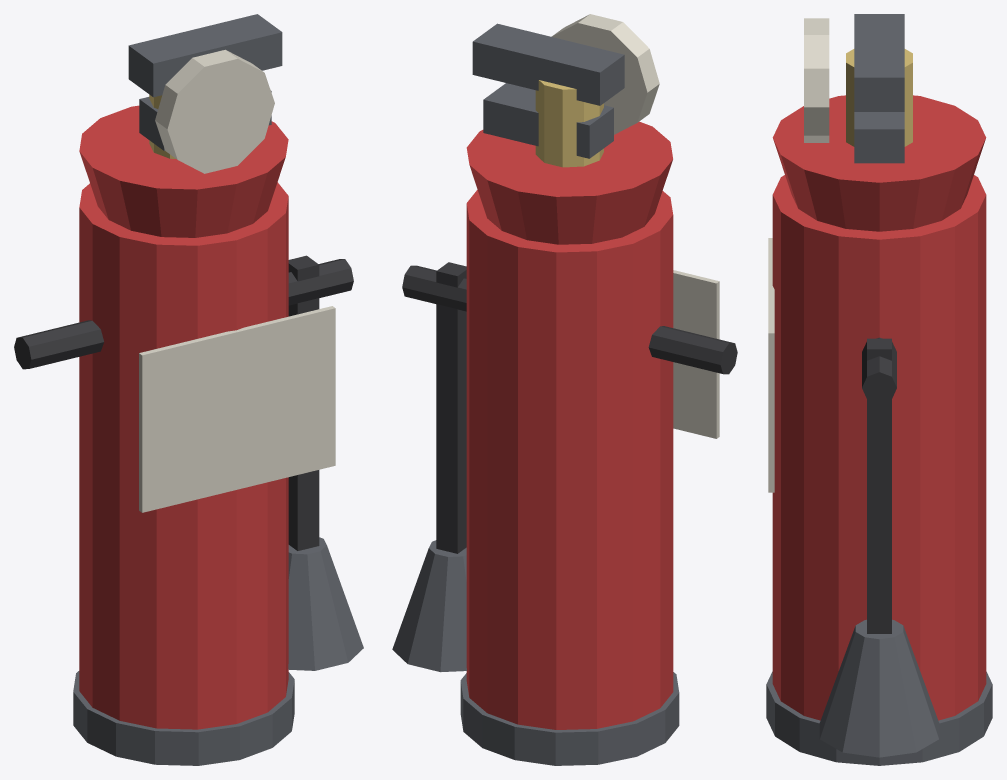
The model's file is fire-and-emergency-services-fire-extinguisher-foam-3e72a2ab__29912.glb.
3 views of the same model, side by side, from view 1: azimuth 30°, elevation 25°; view 2: azimuth 150°, elevation 25°; view 3: azimuth 270°, elevation 25° (orthographic). The views are drawn at different scales.
Visible parts, largest first — view 1: fire-extinguisher-foam; view 2: fire-extinguisher-foam; view 3: fire-extinguisher-foam.
Part boxes in pixels (x1,y1,x2,y2): fire-extinguisher-foam: (14,14,363,765); fire-extinguisher-foam: (392,14,737,765); fire-extinguisher-foam: (766,14,992,765).
Size of the model in its own units: 0.31 by 0.6076 by 0.18.
